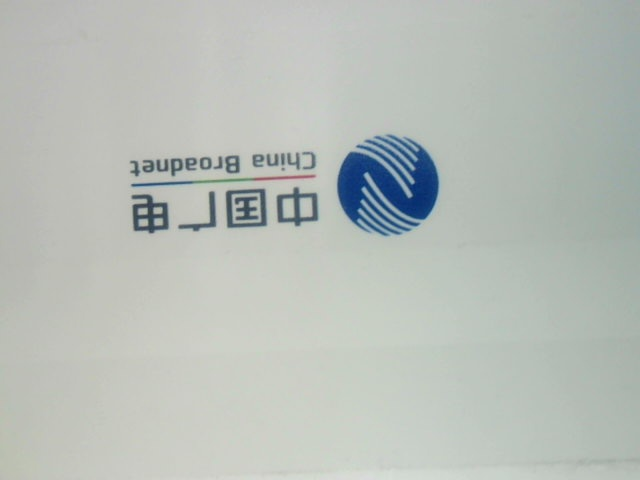AW_ChinaBroadNet: (114, 122, 457, 260)
